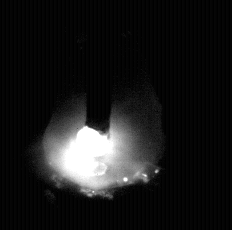arame: (87, 0, 112, 135)
poca: (41, 0, 163, 230)
